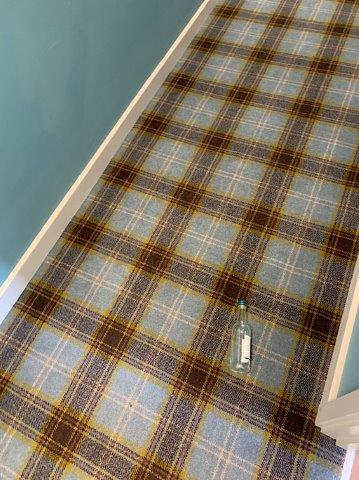botolkaca: (231, 302, 251, 372)
